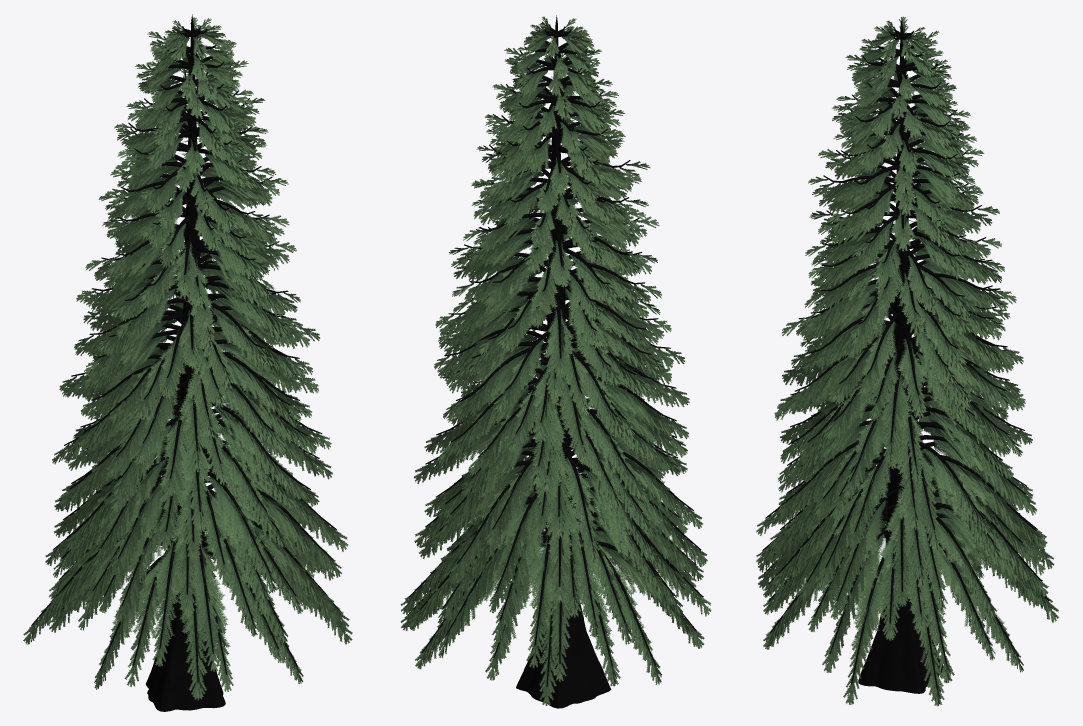
The model's file is pine_giant_02.glb.
3 renders of one model, left to right at view 1: azimuth 30°, elevation 25°; view 2: azimuth 150°, elevation 25°; view 3: azimuth 270°, elevation 25°, orthographic. The views are drawn at different scales.
Parts seen in each view (by area): view 1: pine_giant_02; view 2: pine_giant_02; view 3: pine_giant_02.
Part boxes in pixels (<box>): pine_giant_02: <box>23,14,352,711</box>; pine_giant_02: <box>400,15,711,708</box>; pine_giant_02: <box>756,16,1058,706</box>.
Size of the model in its own units: 12.27 by 27.4 by 12.03.
Materials: 2 (2 with a texture image).
